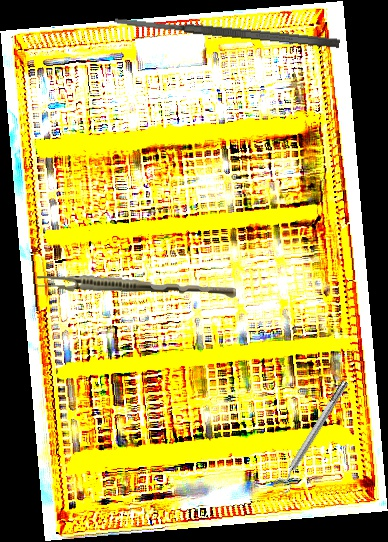Fixation Ring: (270, 376, 355, 496)
Spatula Surgical: (113, 14, 341, 50)
Tissue Forceps: (36, 273, 237, 299)
